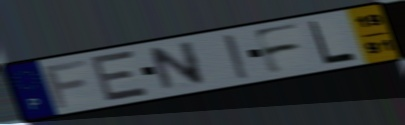E: (89, 48, 151, 104)
F: (250, 21, 305, 77), (41, 57, 90, 111)
I: (220, 32, 253, 81)
L: (307, 19, 359, 66)
N: (147, 39, 209, 94)
